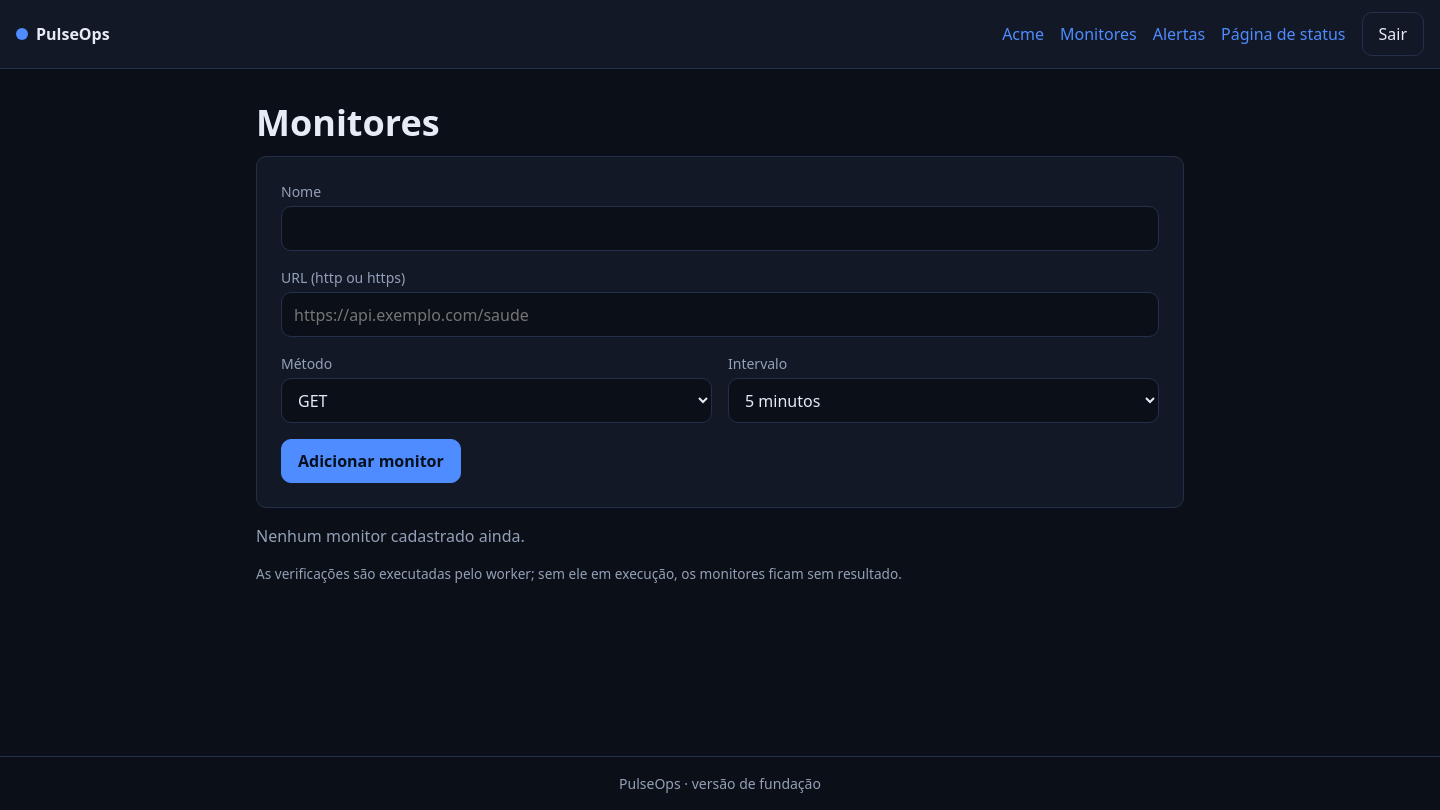
Test: MonitorsPage › mostra estado vazio e exibe o erro da API ao cadastrar URL bloqueada
Expected: the text "Nenhum monitor cadastrado ainda." is shown, 256,525 -> 525,547
Type "Interno" into the field labelled "Nome" at (720, 228), box 281,206 -> 1159,251
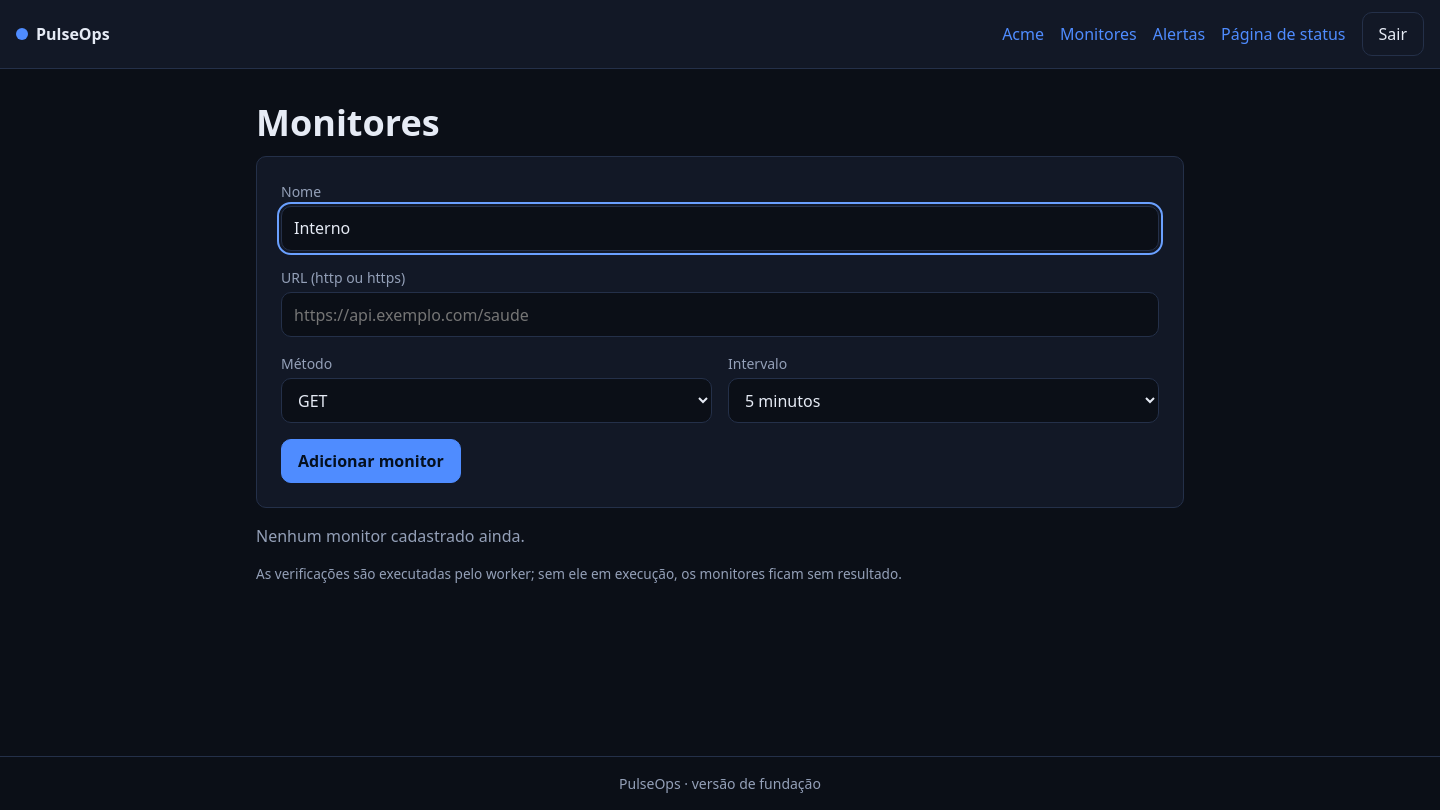
Type "http://127.0.0.1/" into the field labelled "URL (http ou https)" at (720, 315), box 281,292 -> 1159,337
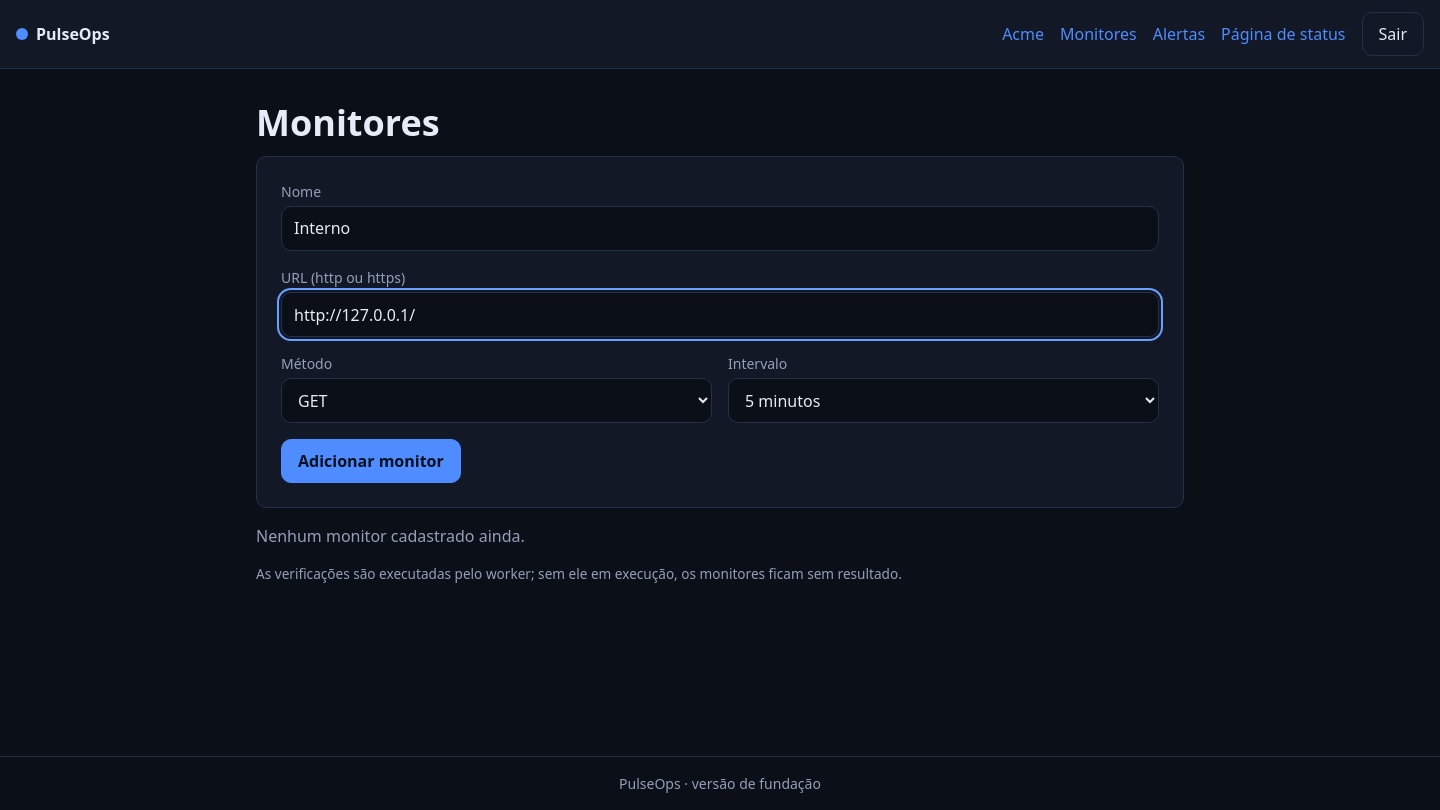
Click the button "Adicionar monitor" at (371, 461), box 281,439 -> 461,483
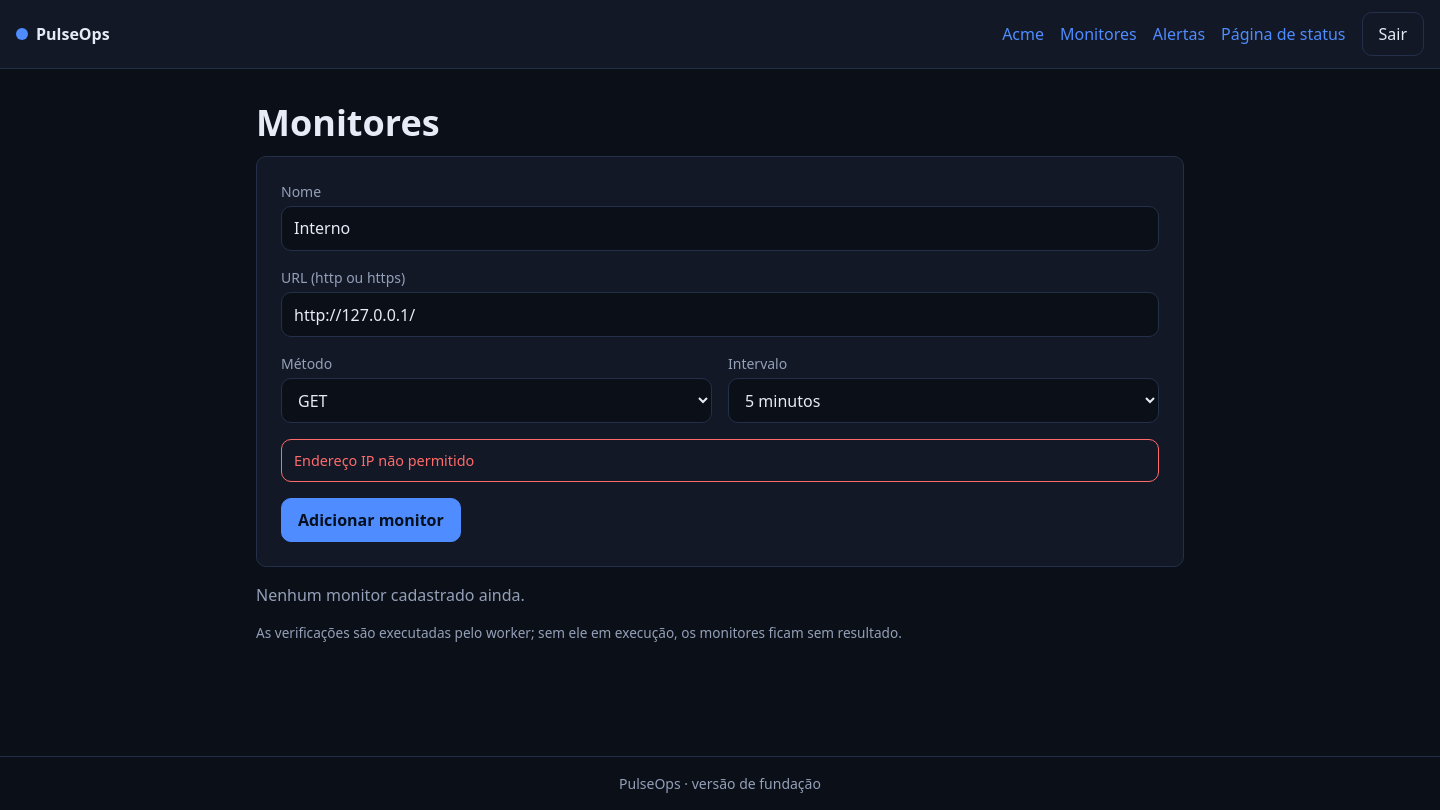
Now the message reads "Endereço IP não permitido", box 294,451 -> 474,470
